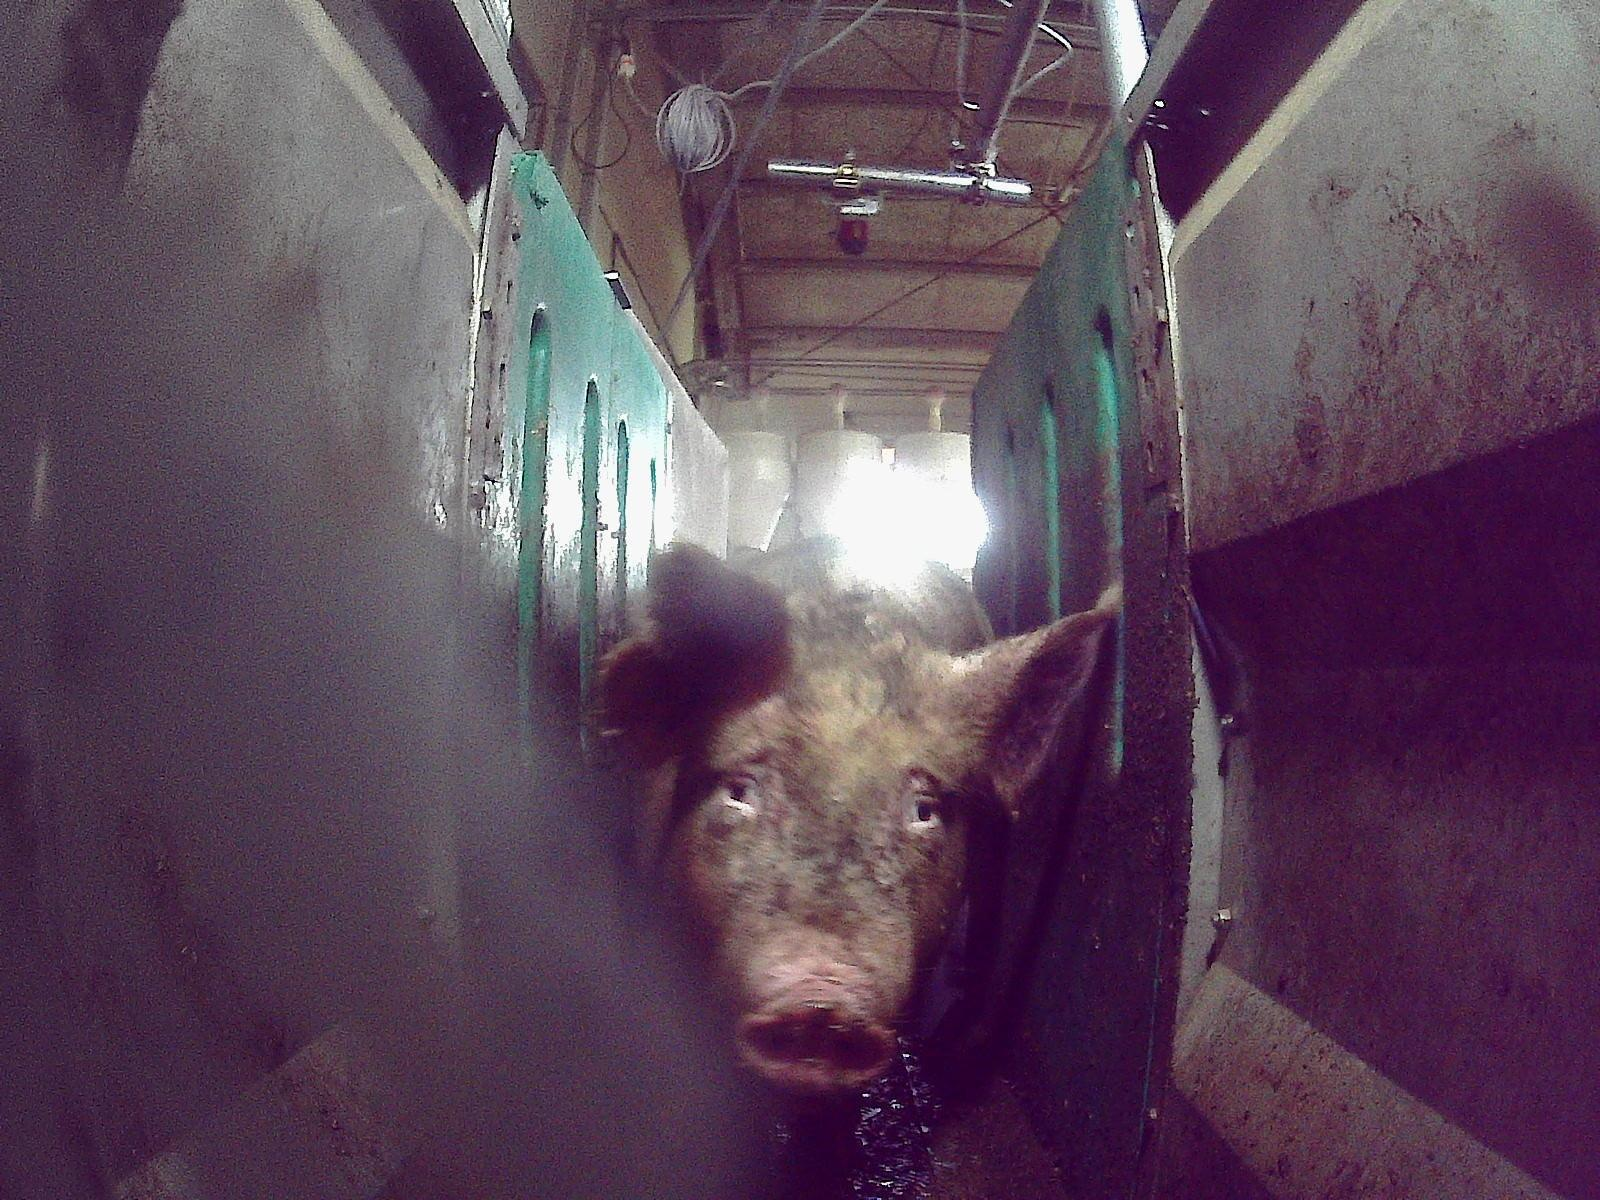Face: (664, 640, 967, 1086)
